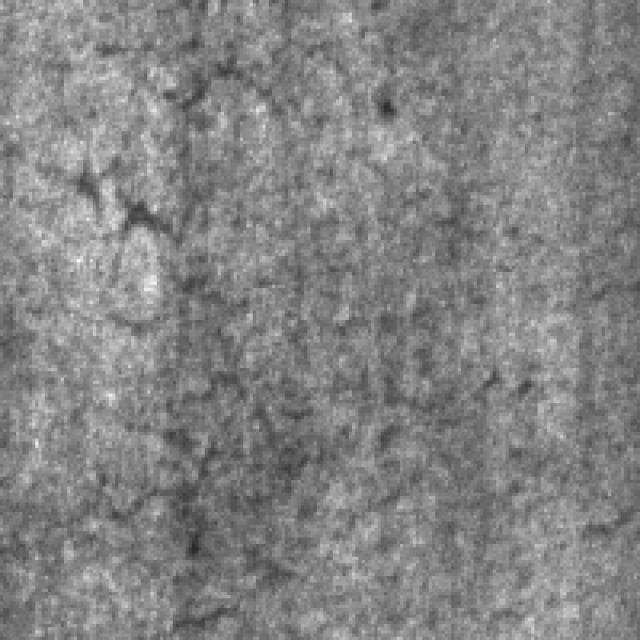crazing: (83, 288, 522, 560), (61, 26, 301, 262)
